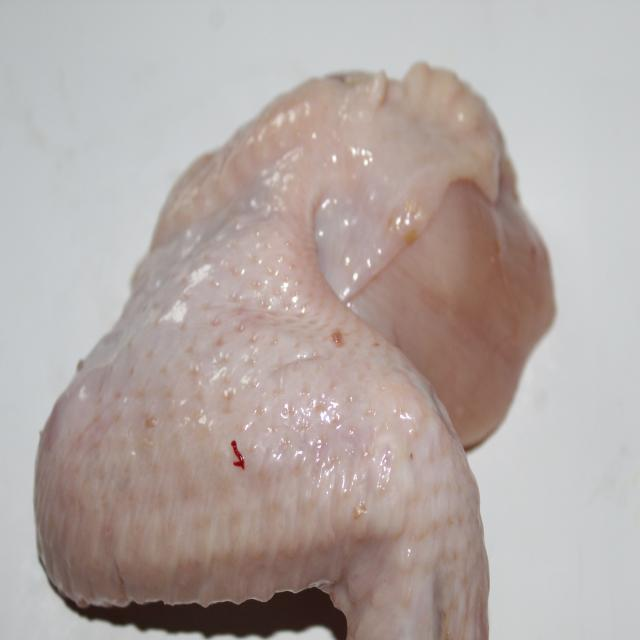chicken: (31, 61, 552, 640)
